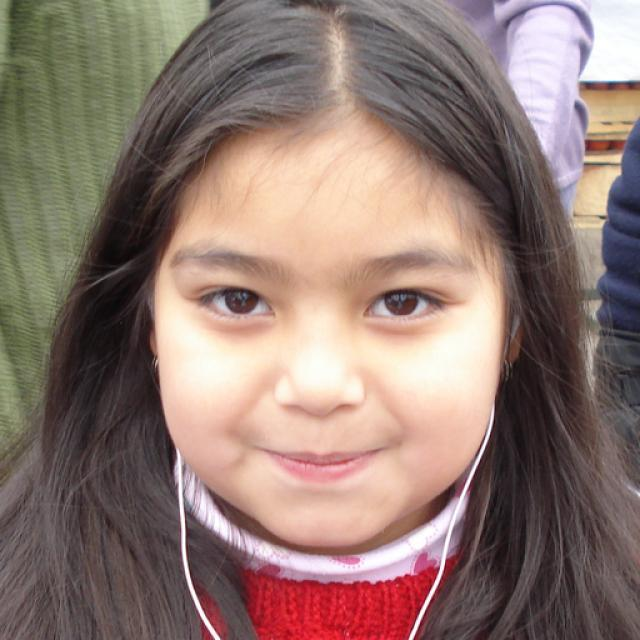happy: (156, 110, 505, 546)
